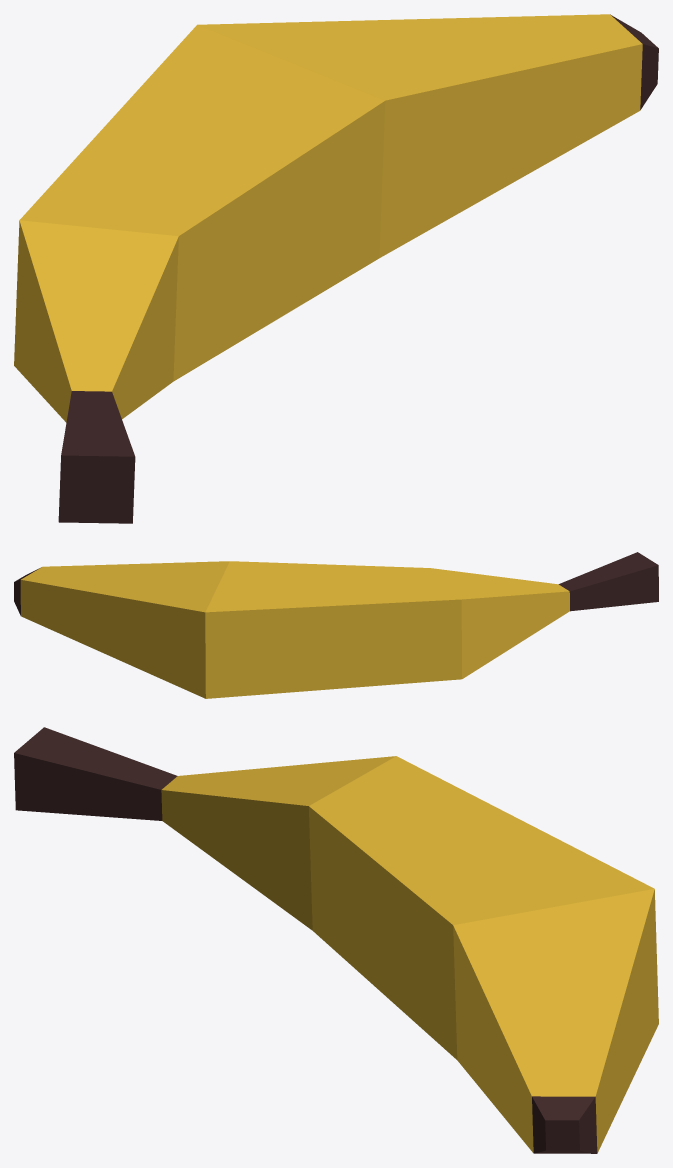
Rendered from Banana.fbx.
3 views of the same model, one above another, from view 1: azimuth 30°, elevation 25°; view 2: azimuth 150°, elevation 25°; view 3: azimuth 270°, elevation 25° (orthographic). The views are drawn at different scales.
Visible parts, largest first — view 1: Banana; view 2: Banana; view 3: Banana.
Boxes of the visible parts, x1,y1,x2,y2 form: Banana: [14, 14, 658, 523]; Banana: [14, 552, 658, 698]; Banana: [14, 727, 658, 1153].
Size of the model in its own units: 114 by 20.26 by 82.7.
